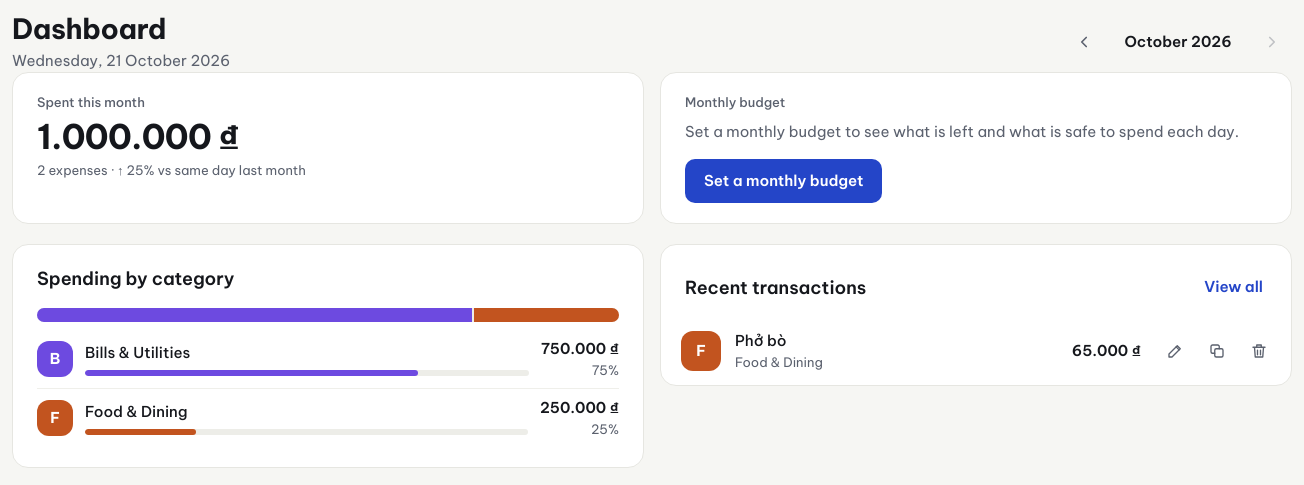
Test: DashboardPage › disables Next on the current month and loads the month before on Previous
Expected: the heading "Spent this month" is shown, [37,94,145,110]
Expected: the button named "Next month" is disabled, [1252,22,1292,62]
Click the button named "Previous month": (1084, 42) [1064,22,1104,62]
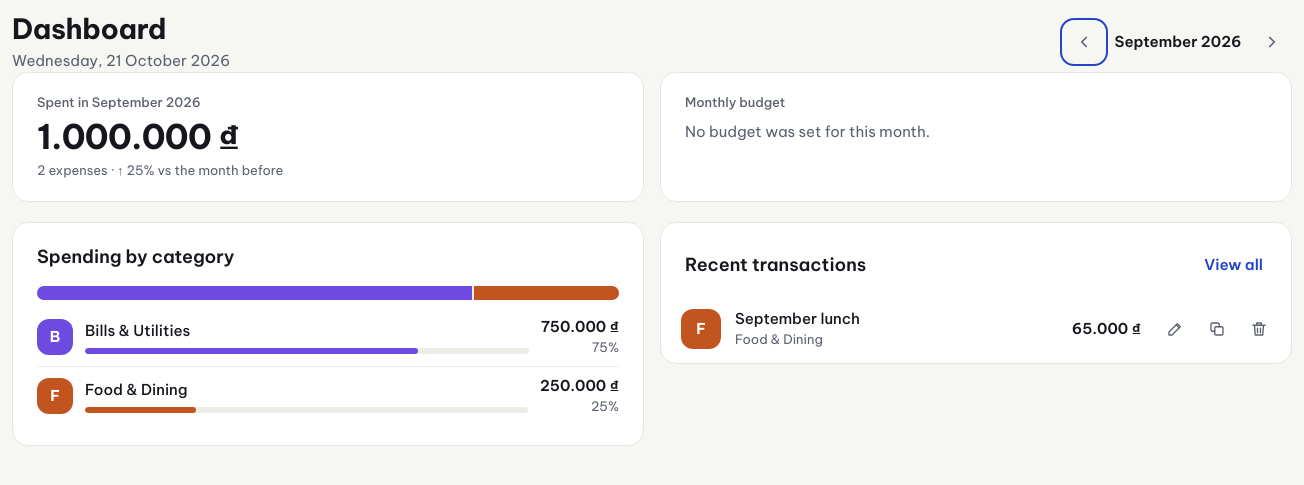
Expected: the heading "Spent in September 2026" is shown, [37,94,201,110]
Expected: the text "September lunch" is shown, [735,309,860,328]
Expected: the text "2 expenses · ↑ 25% vs the month before" is shown, [37,162,283,178]
